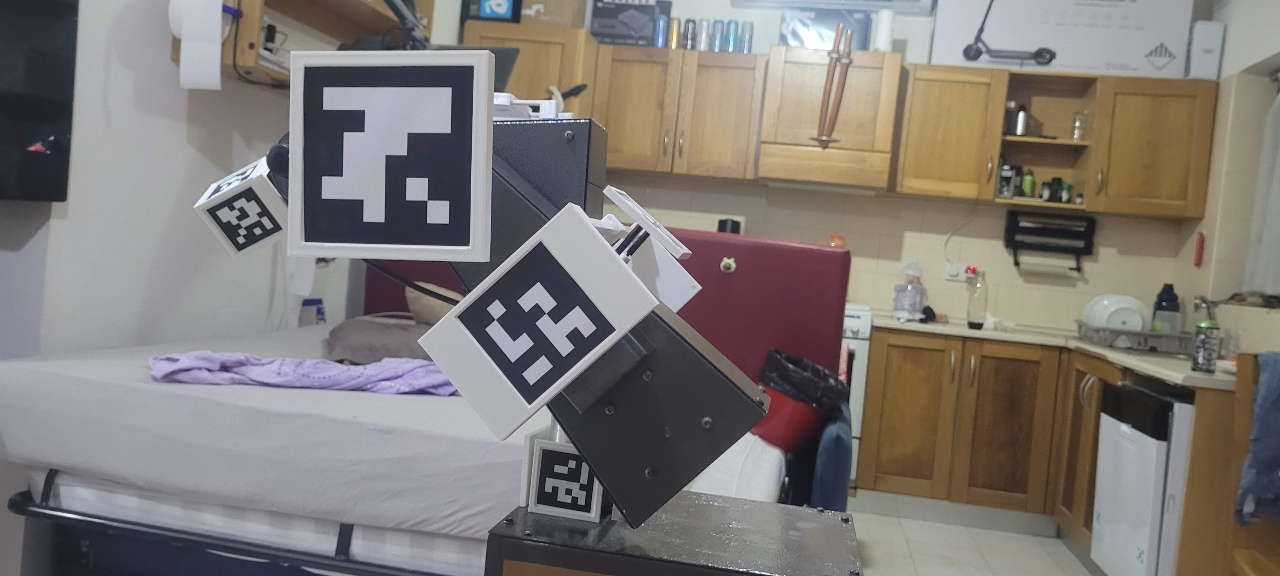Robot: (192, 49, 772, 531)
